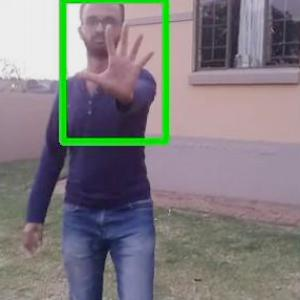follow_hand: (74, 18, 158, 102)
